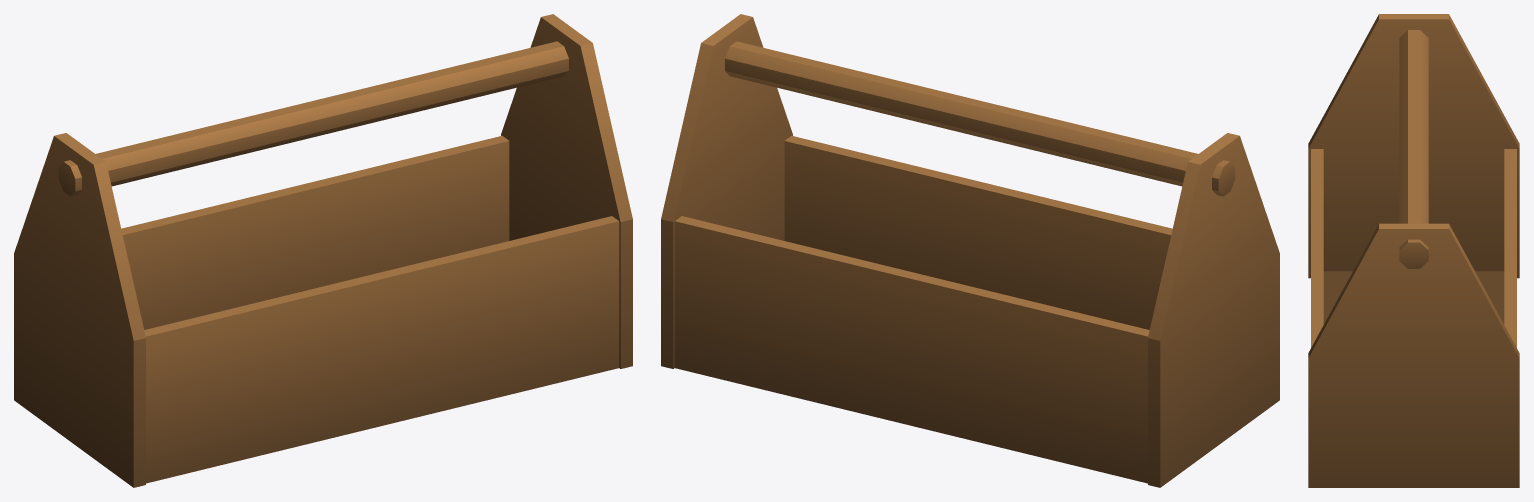
The model's file is Tool_01_Tool_Box_01.obj.
The picture shows the model from 3 angles, left to right: view 1: azimuth 30°, elevation 25°; view 2: azimuth 150°, elevation 25°; view 3: azimuth 270°, elevation 25°; orthographic projection. The views are drawn at different scales.
Parts seen in each view (by area): view 1: Tool_01_Tool_Box_01; view 2: Tool_01_Tool_Box_01; view 3: Tool_01_Tool_Box_01.
Part boxes in pixels (left/top/right/bottom): Tool_01_Tool_Box_01: left=14, top=14, right=632, bottom=487; Tool_01_Tool_Box_01: left=661, top=14, right=1279, bottom=487; Tool_01_Tool_Box_01: left=1308, top=14, right=1519, bottom=487.
Bounding box in the file's own units: 0.4567 × 0.25 × 0.1846.
Materials: 1 (1 with a texture image).
